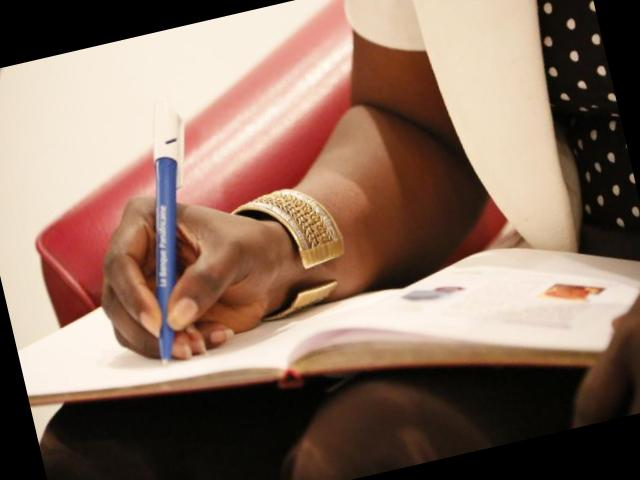PEN: (142, 103, 188, 371)
